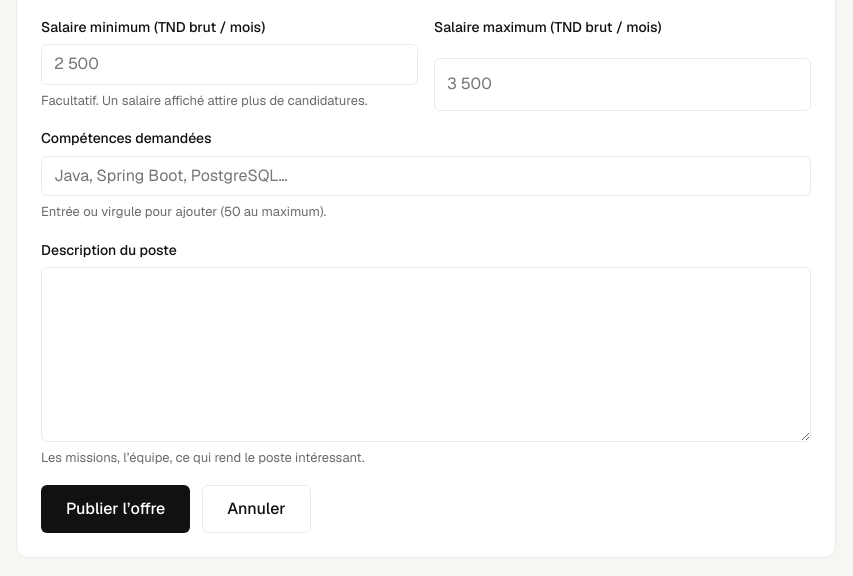
publication form › blocks the submission and names each empty required field
(page scrolled)
What coordinates should you click on to do the following:
click the button "Publier l’offre"
I would click on:
 (116, 509)
Its box is [41,485,190,533].
(page scrolled)
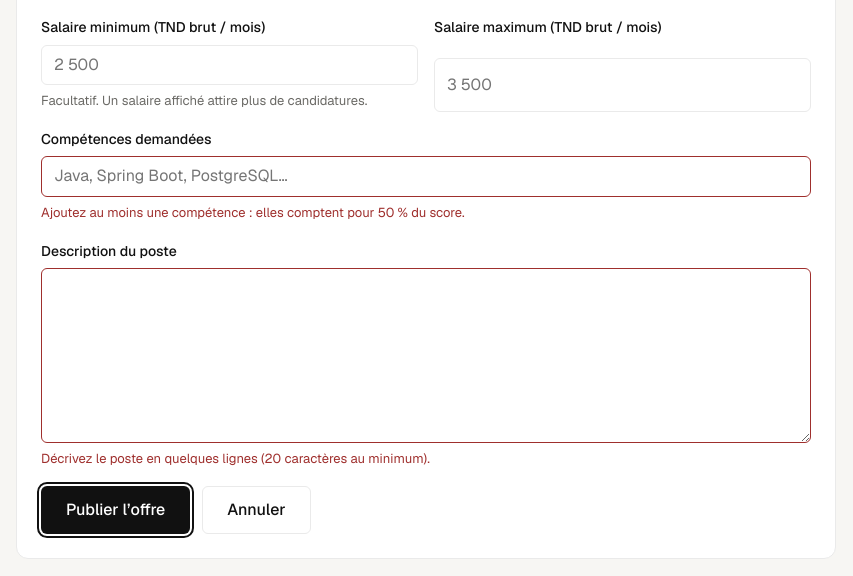
Expected: the text "Ajoutez au moins une compétence : elles comptent pour 50 % du score." is shown, [41,204,465,221]
Expected: the text "Décrivez le poste en quelques lignes (20 caractères au minimum)." is shown, [41,450,430,467]
